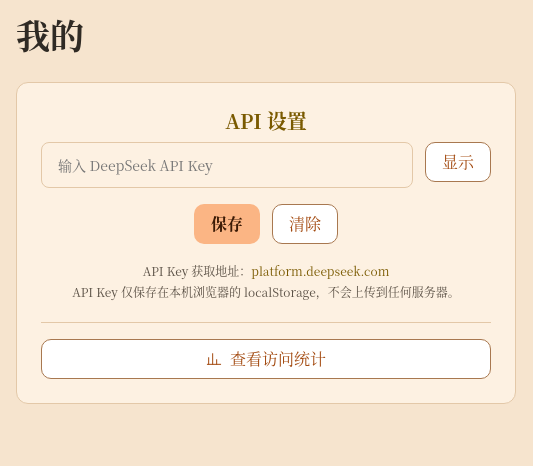
Test: Profile › 应该保存 API key
Type "my-api-key" into the password field with placeholder "输入 DeepSeek API Key" at (227, 165), box [41, 142, 413, 188]
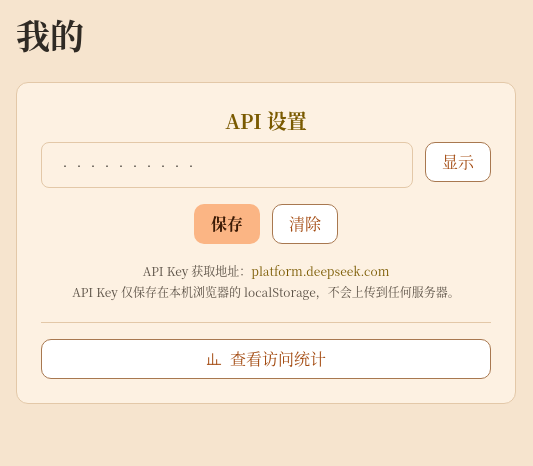
Click the button "保存" at (227, 224), box [194, 204, 260, 244]
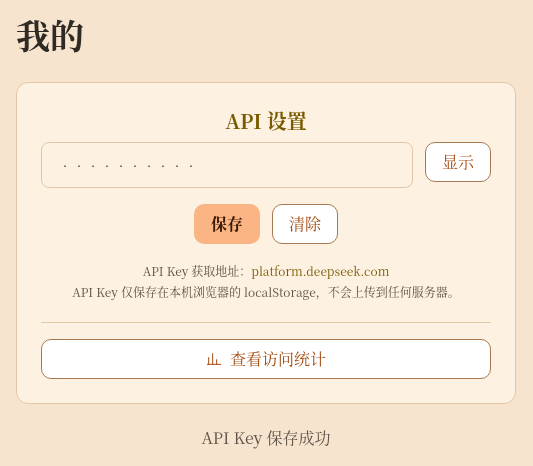
Expected: the text "API Key 保存成功" is shown, [202, 426, 330, 449]
